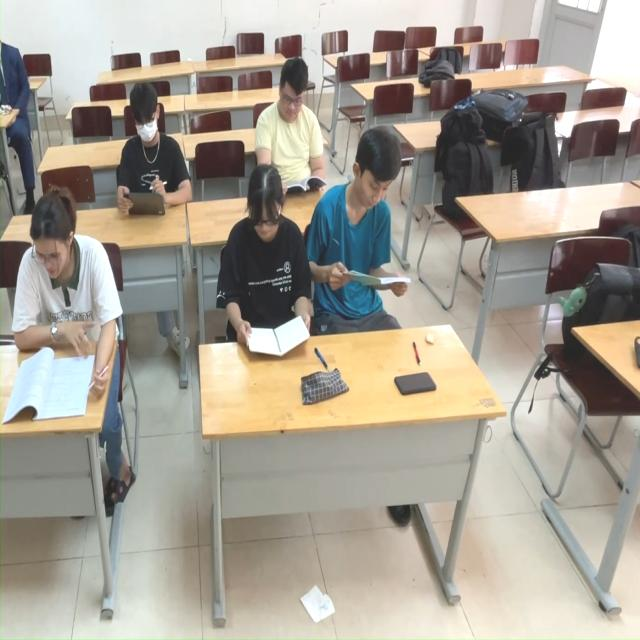read: (3, 189, 131, 430), (304, 120, 417, 353), (206, 163, 320, 383), (113, 82, 187, 223), (260, 55, 320, 197)
